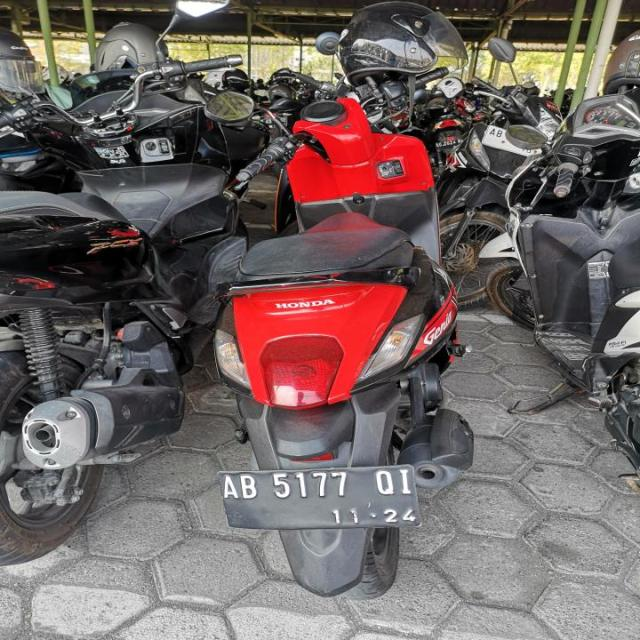License Plate: (217, 463, 427, 532)
